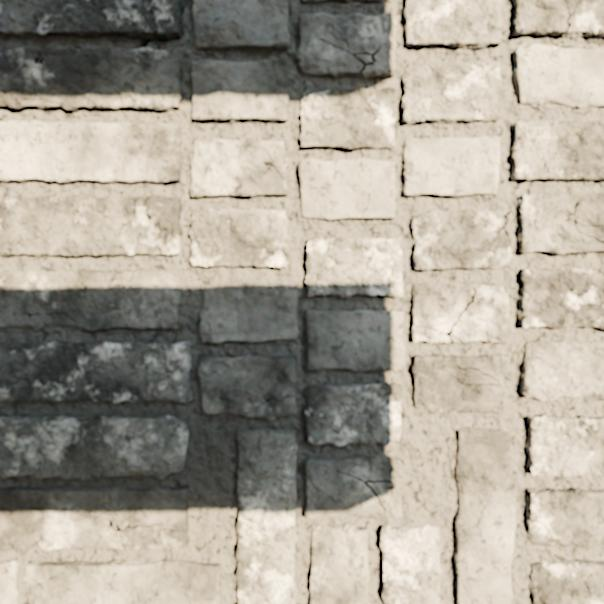brick: (0, 486, 187, 551), (0, 416, 187, 479), (0, 341, 191, 402), (0, 47, 182, 111), (0, 121, 181, 183), (0, 195, 181, 257), (0, 269, 181, 330), (454, 428, 516, 603), (236, 429, 296, 603), (25, 560, 220, 603), (0, 0, 182, 39), (198, 354, 296, 419), (297, 13, 395, 77), (304, 382, 402, 445), (305, 455, 401, 519), (402, 61, 499, 123), (189, 208, 289, 268), (192, 59, 288, 121), (411, 210, 510, 269), (307, 310, 404, 370), (298, 159, 395, 219), (200, 282, 297, 342), (305, 237, 402, 297), (300, 88, 395, 149), (411, 283, 509, 342), (403, 137, 499, 197), (513, 44, 603, 107), (412, 355, 511, 412), (190, 139, 287, 197), (511, 120, 603, 180), (518, 268, 603, 328), (517, 194, 603, 253), (521, 339, 603, 400), (526, 414, 603, 477), (380, 524, 441, 603), (192, 0, 288, 49), (310, 524, 369, 603), (404, 0, 501, 48), (526, 488, 603, 547), (512, 0, 603, 37), (529, 560, 603, 603), (0, 560, 17, 603), (302, 0, 391, 3)
crack: (427, 287, 477, 343), (118, 196, 167, 240), (133, 24, 183, 50), (259, 146, 286, 179), (490, 210, 511, 246), (580, 573, 602, 603), (31, 45, 45, 64), (180, 0, 192, 18), (71, 44, 84, 50), (0, 467, 17, 471), (91, 47, 103, 51)
